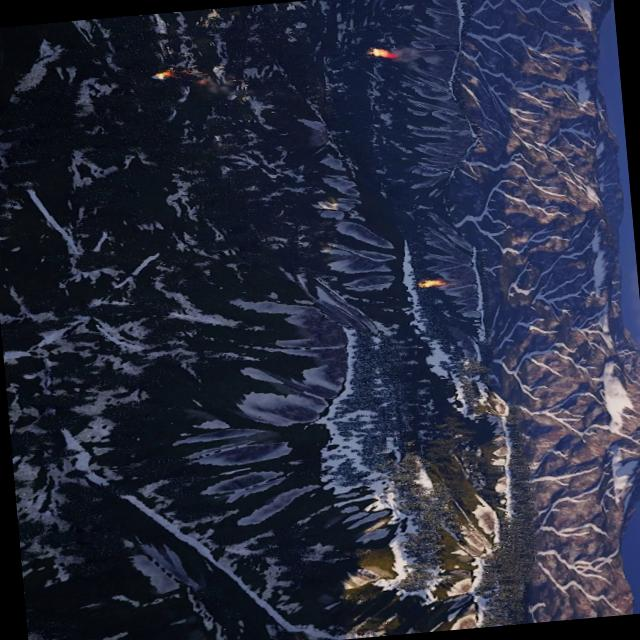fire: (367, 48, 392, 62), (416, 278, 442, 288), (153, 72, 172, 82)
smoke: (183, 61, 240, 102), (392, 44, 446, 70)
